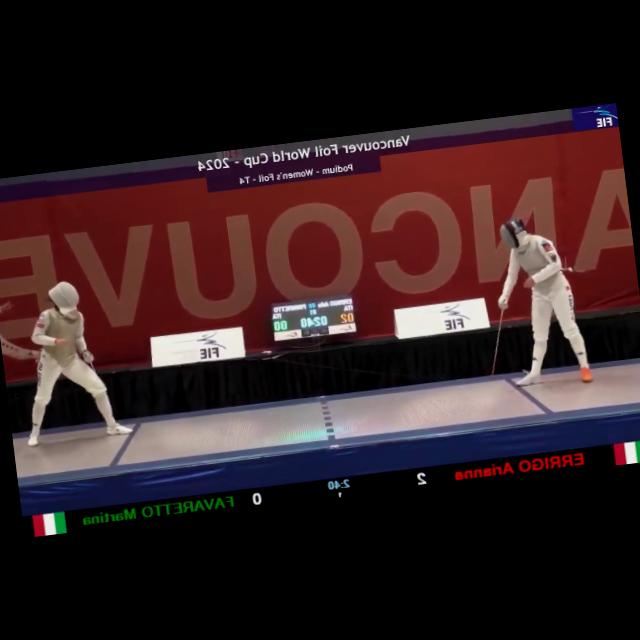blade: (478, 297, 516, 382)
